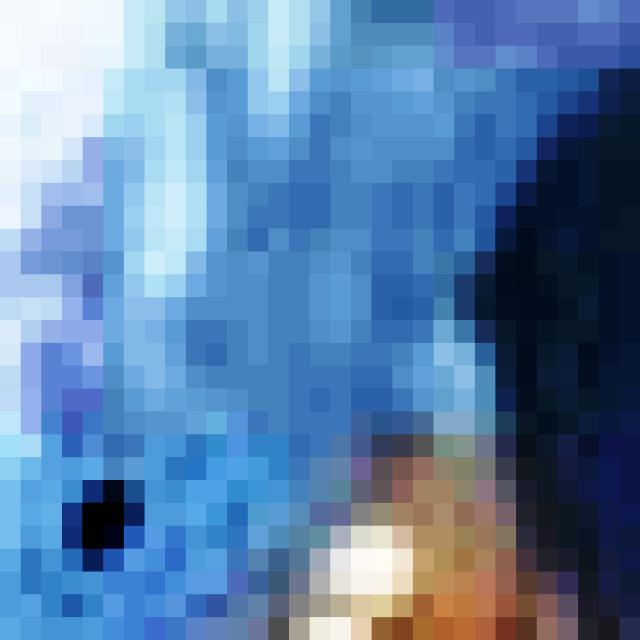arms: (0, 0, 330, 617)
